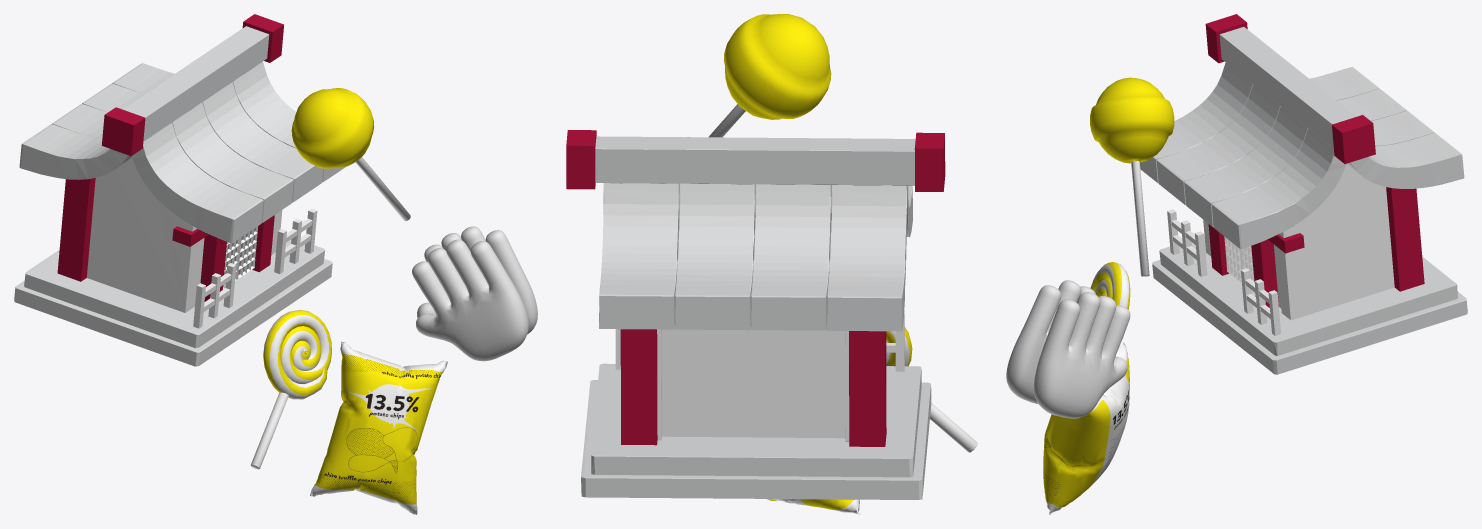
File: temple3.gltf
3 views of the same model, side by side, from view 1: azimuth 30°, elevation 25°; view 2: azimuth 150°, elevation 25°; view 3: azimuth 270°, elevation 25° (orthographic). The views are drawn at different scales.
Visible parts, largest first — view 1: 0temple.002, 5pack.002, 1handL.002, 3candy.002, 4SpiralCnady.002, 2handR.002; view 2: 0temple.002, 3candy.002, 4SpiralCnady.002, 5pack.002; view 3: 0temple.002, 2handR.002, 5pack.002, 3candy.002, 1handL.002, 4SpiralCnady.002.
Boxes of the visible parts, x1,y1,x2,y2 form: 0temple.002: (14,14,346,366); 5pack.002: (310,341,447,514); 1handL.002: (412,239,528,361); 3candy.002: (291,88,410,221); 4SpiralCnady.002: (250,309,331,469); 2handR.002: (417,226,537,334); 0temple.002: (566,130,945,499); 3candy.002: (708,14,831,137); 4SpiralCnady.002: (886,327,977,452); 5pack.002: (767,499,860,514); 0temple.002: (1140,14,1467,374); 2handR.002: (1034,292,1130,418); 5pack.002: (1043,337,1129,514); 3candy.002: (1090,77,1174,276); 1handL.002: (1006,280,1095,403); 4SpiralCnady.002: (1090,262,1130,309).
Size of the model in its own units: 5.73 by 5.9 by 6.01.
10 materials, 3 textured.
